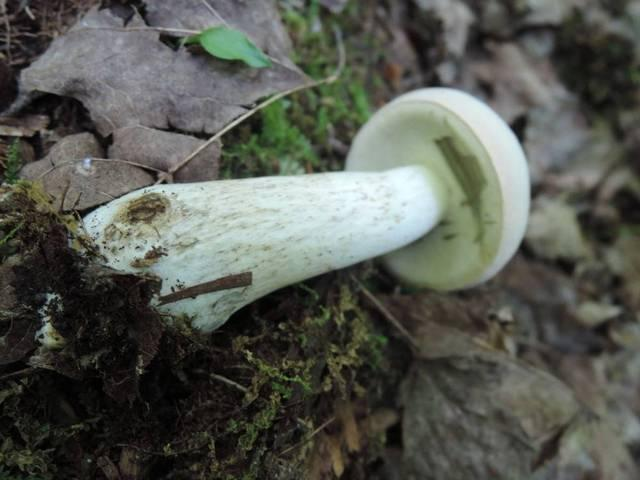edible_mushroom: (71, 84, 532, 337)
